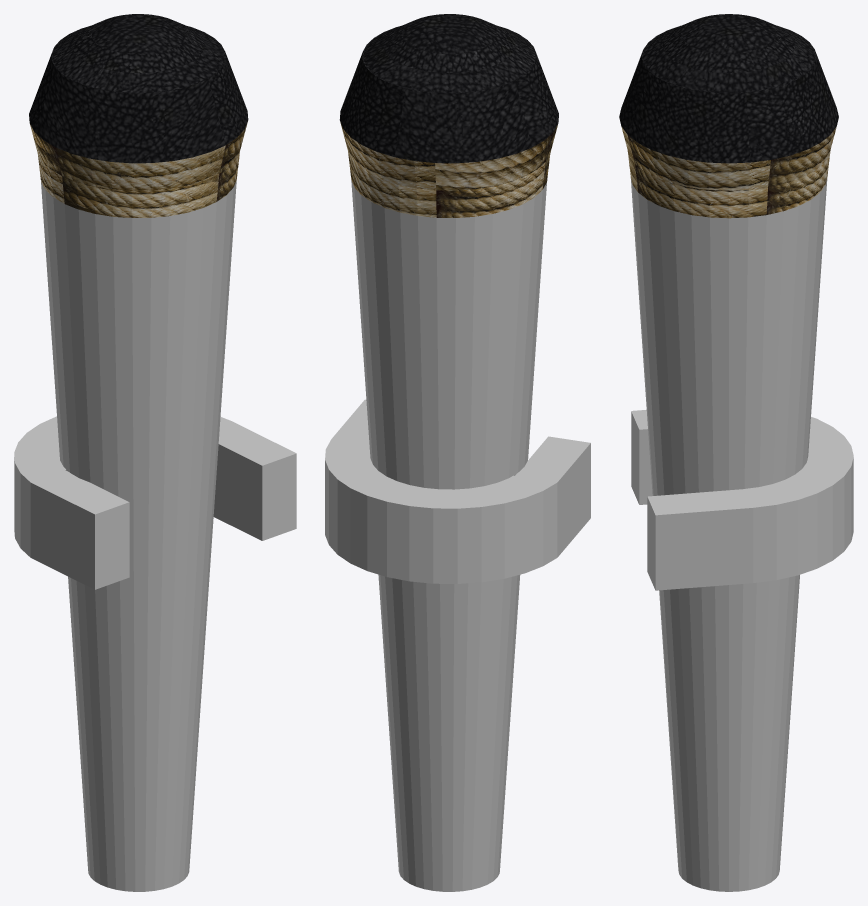
File: Torch.fbx
3 renders of one model, left to right at view 1: azimuth 30°, elevation 25°; view 2: azimuth 150°, elevation 25°; view 3: azimuth 270°, elevation 25°, orthographic.
Visible parts, largest first — view 1: Cylinder, Cylinder.001; view 2: Cylinder, Cylinder.001; view 3: Cylinder, Cylinder.001.
Part boxes in pixels (box(x1,y1,x2,y2)): Cylinder: box(29, 14, 248, 891); Cylinder.001: box(14, 416, 296, 589); Cylinder: box(339, 14, 558, 891); Cylinder.001: box(325, 399, 590, 583); Cylinder: box(619, 14, 838, 891); Cylinder.001: box(631, 409, 853, 590).
Bounding box in the file's own units: 63.72 × 224 × 56.44.
